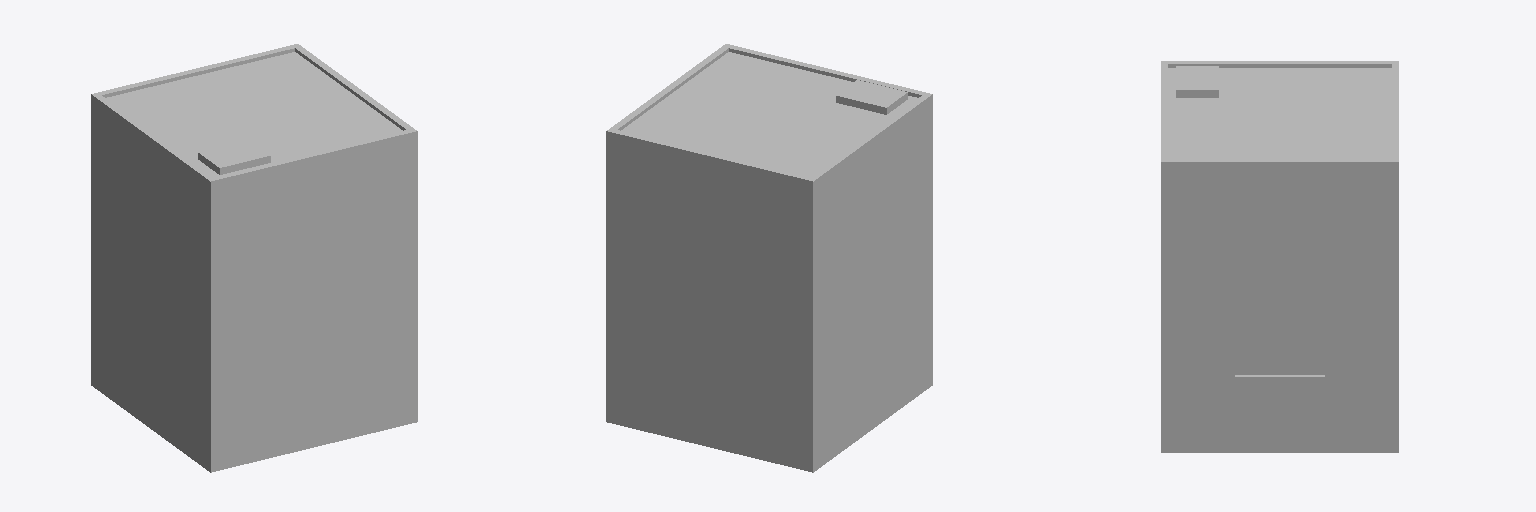
File: wieowiec (1).obj
The picture shows the model from 3 angles: view 1: azimuth 30°, elevation 25°; view 2: azimuth 150°, elevation 25°; view 3: azimuth 270°, elevation 25°; orthographic projection.
Visible parts, largest first — view 1: object 1; view 2: object 1; view 3: object 1.
Boxes of the visible parts, x1=… form: object 1: x1=91, y1=44, x2=417, y2=472; object 1: x1=606, y1=44, x2=932, y2=472; object 1: x1=1161, y1=61, x2=1398, y2=452.
Size of the model in its own units: 6.2 by 8.3 by 6.1.